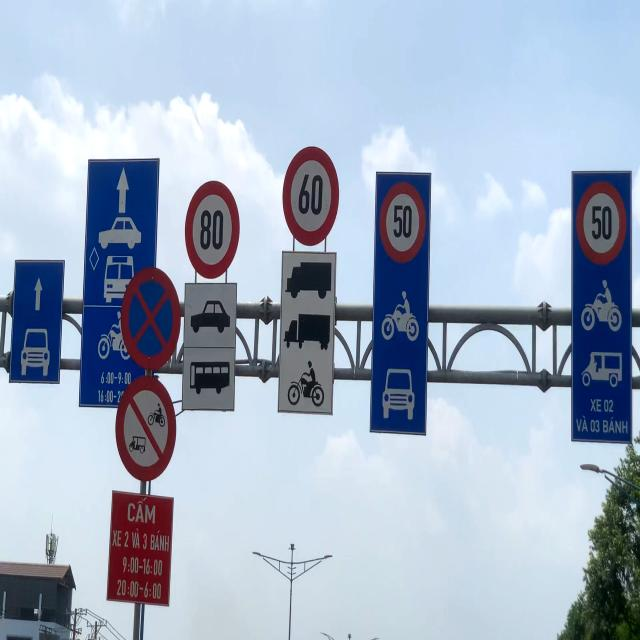P.127: (282, 145, 340, 247), (184, 179, 240, 280), (576, 180, 627, 266), (379, 181, 426, 263)
P.130: (120, 266, 182, 370)
